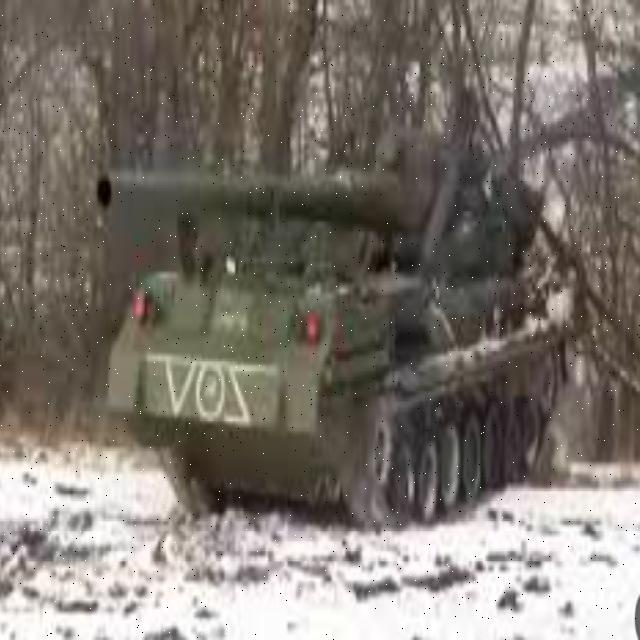ART: (94, 130, 564, 530)
